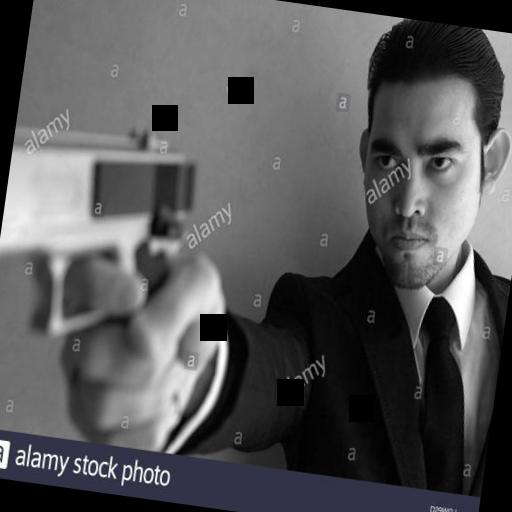Handgun: (0, 104, 210, 357)
